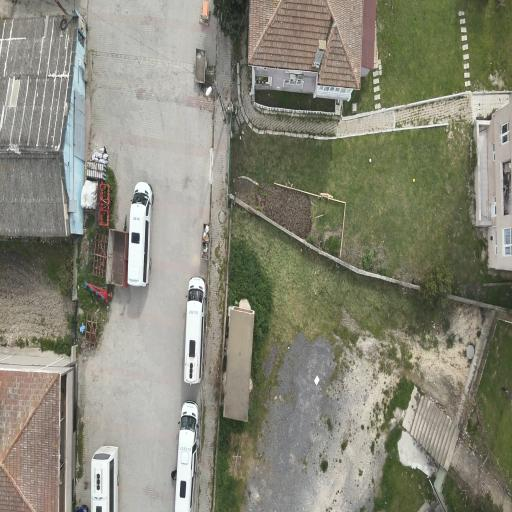car: (127, 182, 154, 286), (175, 401, 199, 512), (184, 276, 206, 384), (90, 446, 119, 512)
person: (171, 470, 177, 481)
